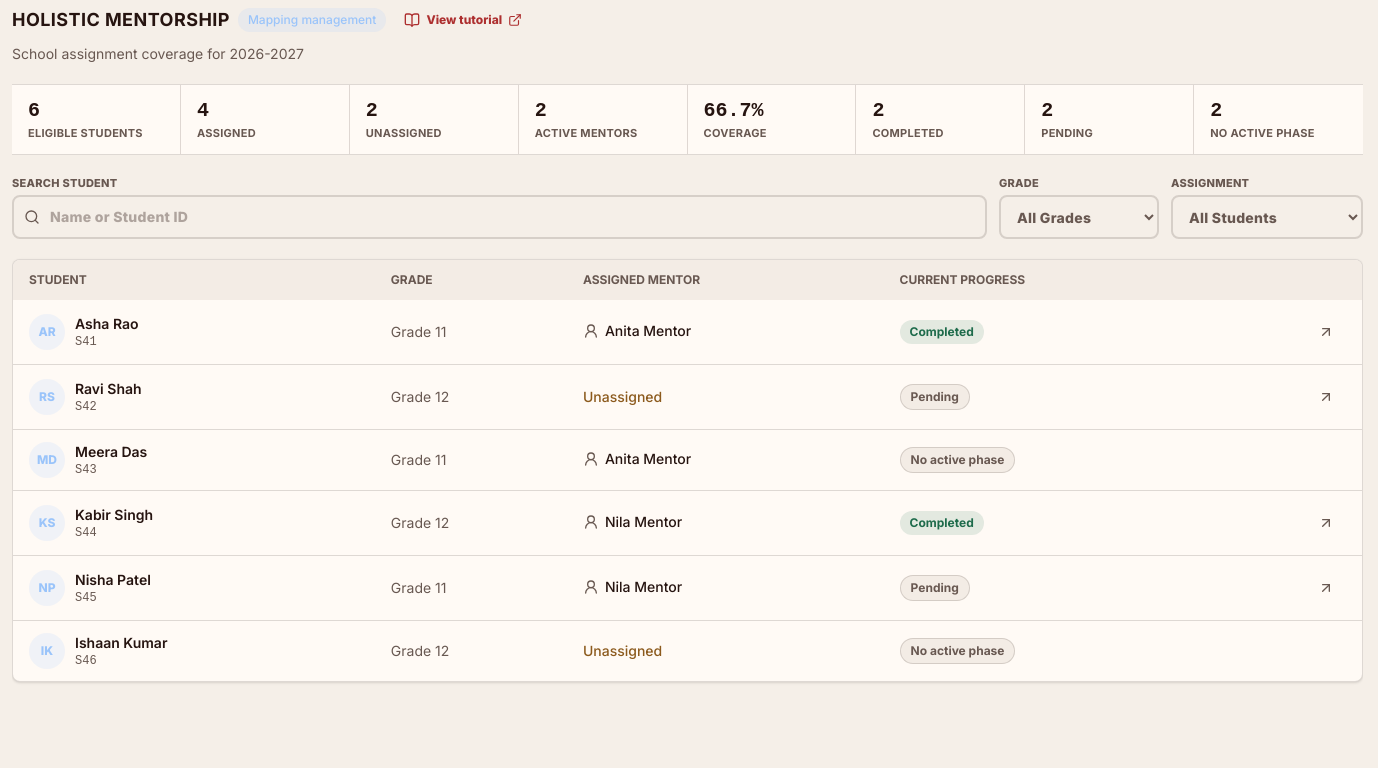
Test case: AdminSchoolRoster › derives every summary metric from search-filtered rows
Type "S44" into the field named "Search Students".
click(500, 217); type("S44")  # box left=12, top=195, right=987, bottom=239
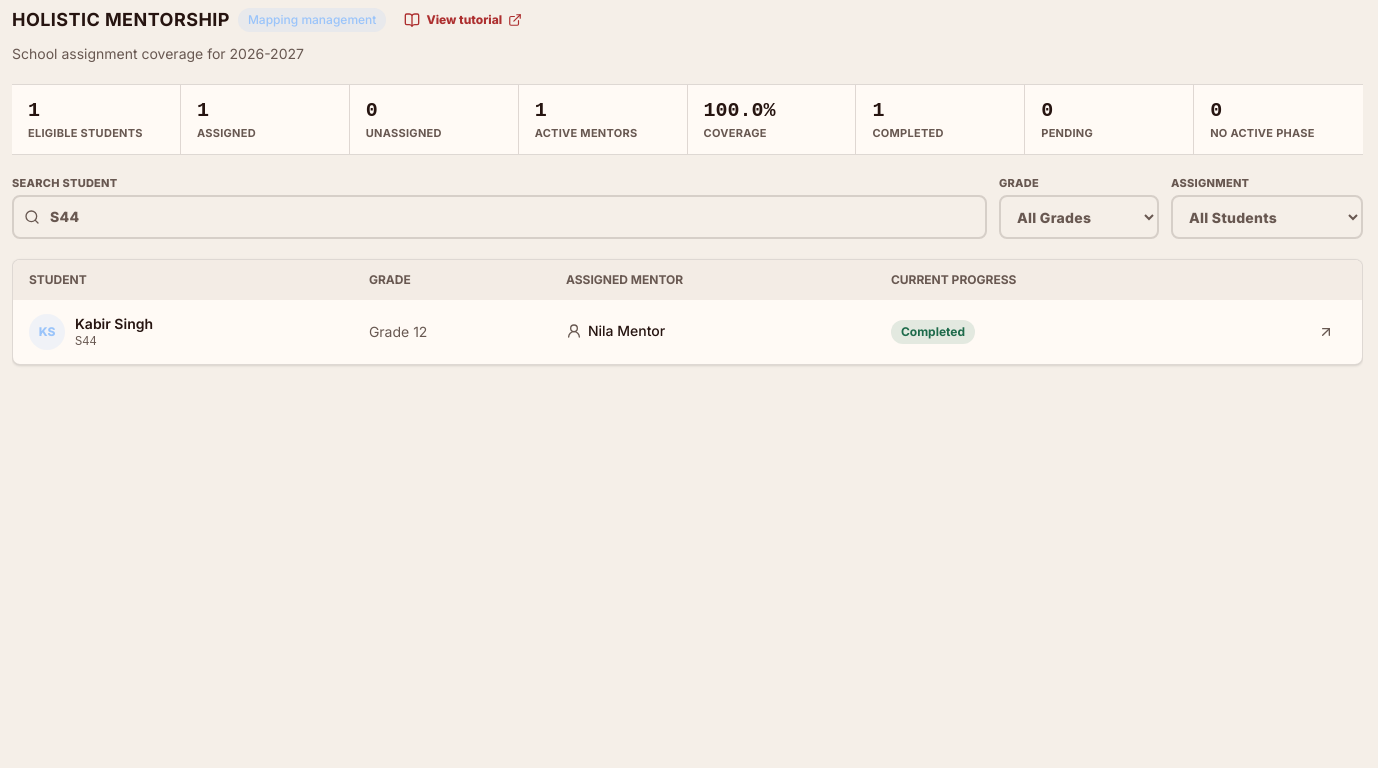
Expected: the text "Asha Rao" is gone
Expected: the 4th text "1" is shown, left=872, top=99, right=884, bottom=122
Expected: the 3rd text "0" is shown, left=1210, top=99, right=1222, bottom=122
